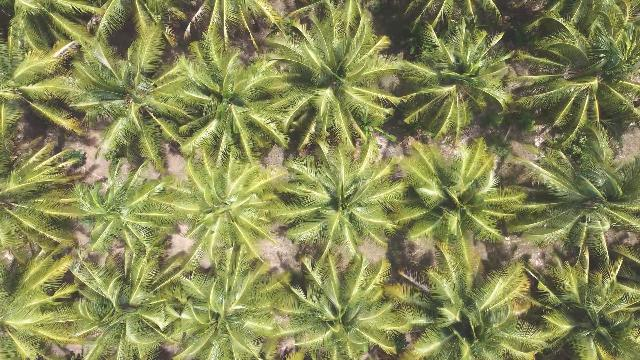trees: (31, 10, 204, 172), (256, 5, 407, 153), (165, 13, 302, 169), (502, 4, 640, 146), (505, 129, 640, 260), (277, 135, 417, 260), (403, 244, 552, 360), (163, 149, 294, 278), (386, 137, 530, 253), (264, 248, 410, 360), (162, 243, 298, 360), (395, 19, 520, 146), (56, 163, 192, 274), (520, 244, 640, 360), (4, 142, 99, 259), (4, 248, 99, 357), (430, 232, 479, 308)
